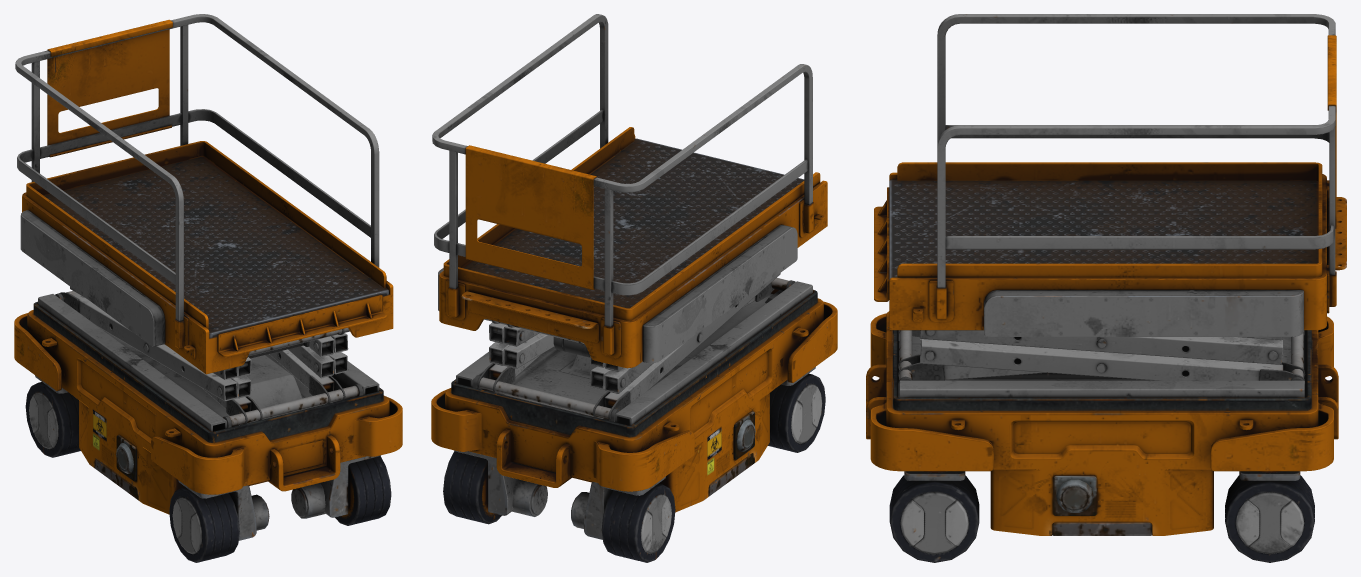
Rendered from SM_Lifter_Style01.fbx.
The picture shows the model from 3 angles, left to right: view 1: azimuth 30°, elevation 25°; view 2: azimuth 150°, elevation 25°; view 3: azimuth 270°, elevation 25°; orthographic projection. The views are drawn at different scales.
Visible parts, largest first — view 1: SM_Lifter_Style01_LOD0; view 2: SM_Lifter_Style01_LOD0; view 3: SM_Lifter_Style01_LOD0.
Boxes of the visible parts, x1,y1,x2,y2 form: SM_Lifter_Style01_LOD0: [14, 14, 402, 562]; SM_Lifter_Style01_LOD0: [431, 14, 837, 562]; SM_Lifter_Style01_LOD0: [866, 14, 1346, 562].
Size of the model in its own units: 107 by 181 by 183.
1 material, 1 textured.
